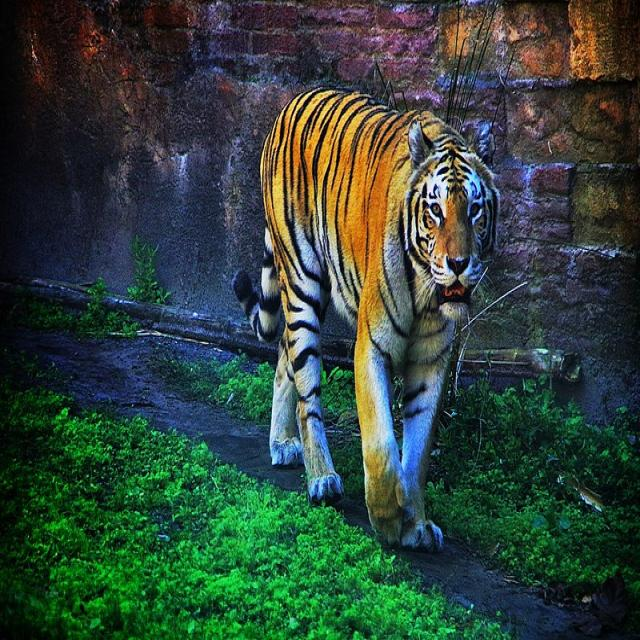Tiger: (232, 84, 501, 552)
